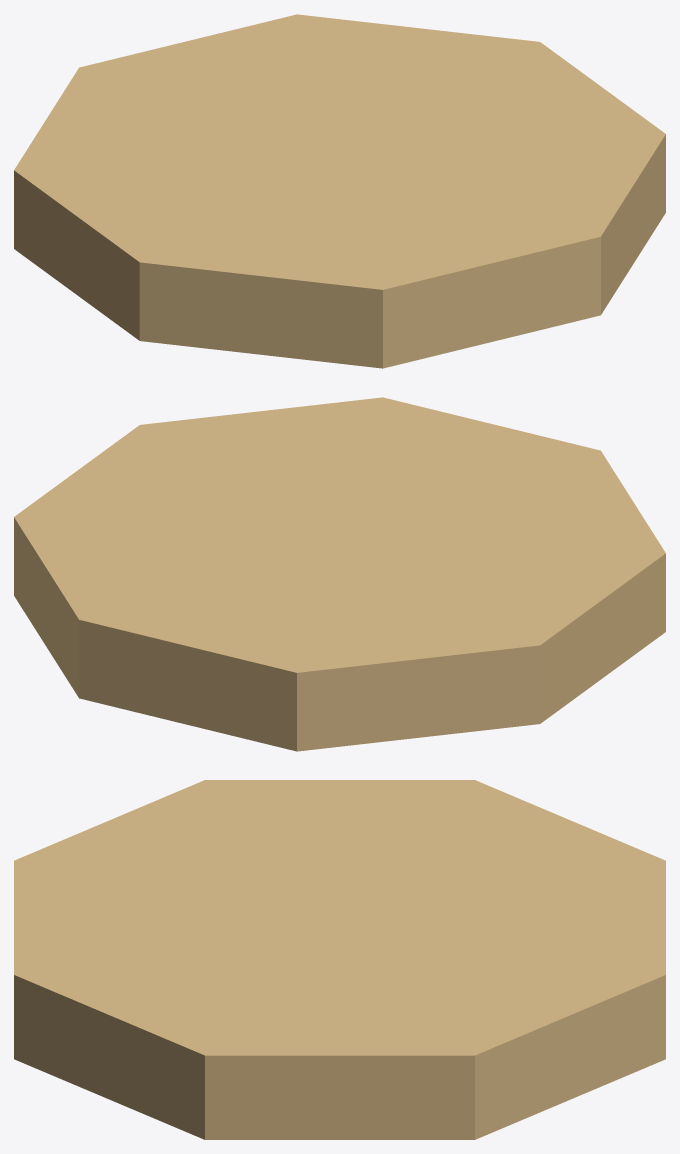
File: burger_bun_bottom.gltf
3 views of the same model, one above another, from view 1: azimuth 30°, elevation 25°; view 2: azimuth 150°, elevation 25°; view 3: azimuth 270°, elevation 25° (orthographic). The views are drawn at different scales.
Visible parts, largest first — view 1: cylinder; view 2: cylinder; view 3: cylinder.
Part boxes in pixels (left/top/right/bottom): cylinder: left=14, top=14, right=665, bottom=368; cylinder: left=14, top=397, right=665, bottom=751; cylinder: left=14, top=780, right=665, bottom=1139.
Size of the model in its own units: 0.4375 by 0.0625 by 0.4375.
Materials: 1 (1 with a texture image).
